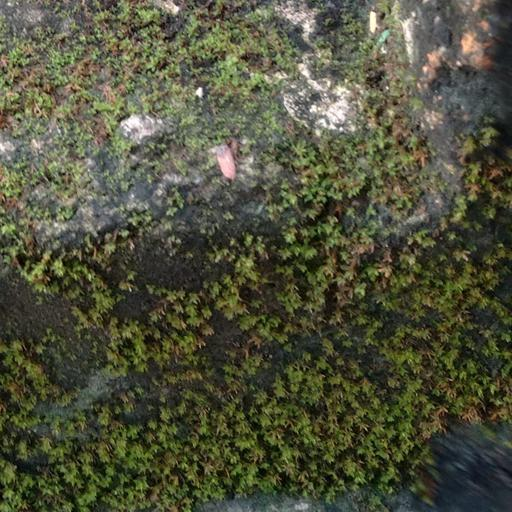algae: (3, 1, 512, 512)
